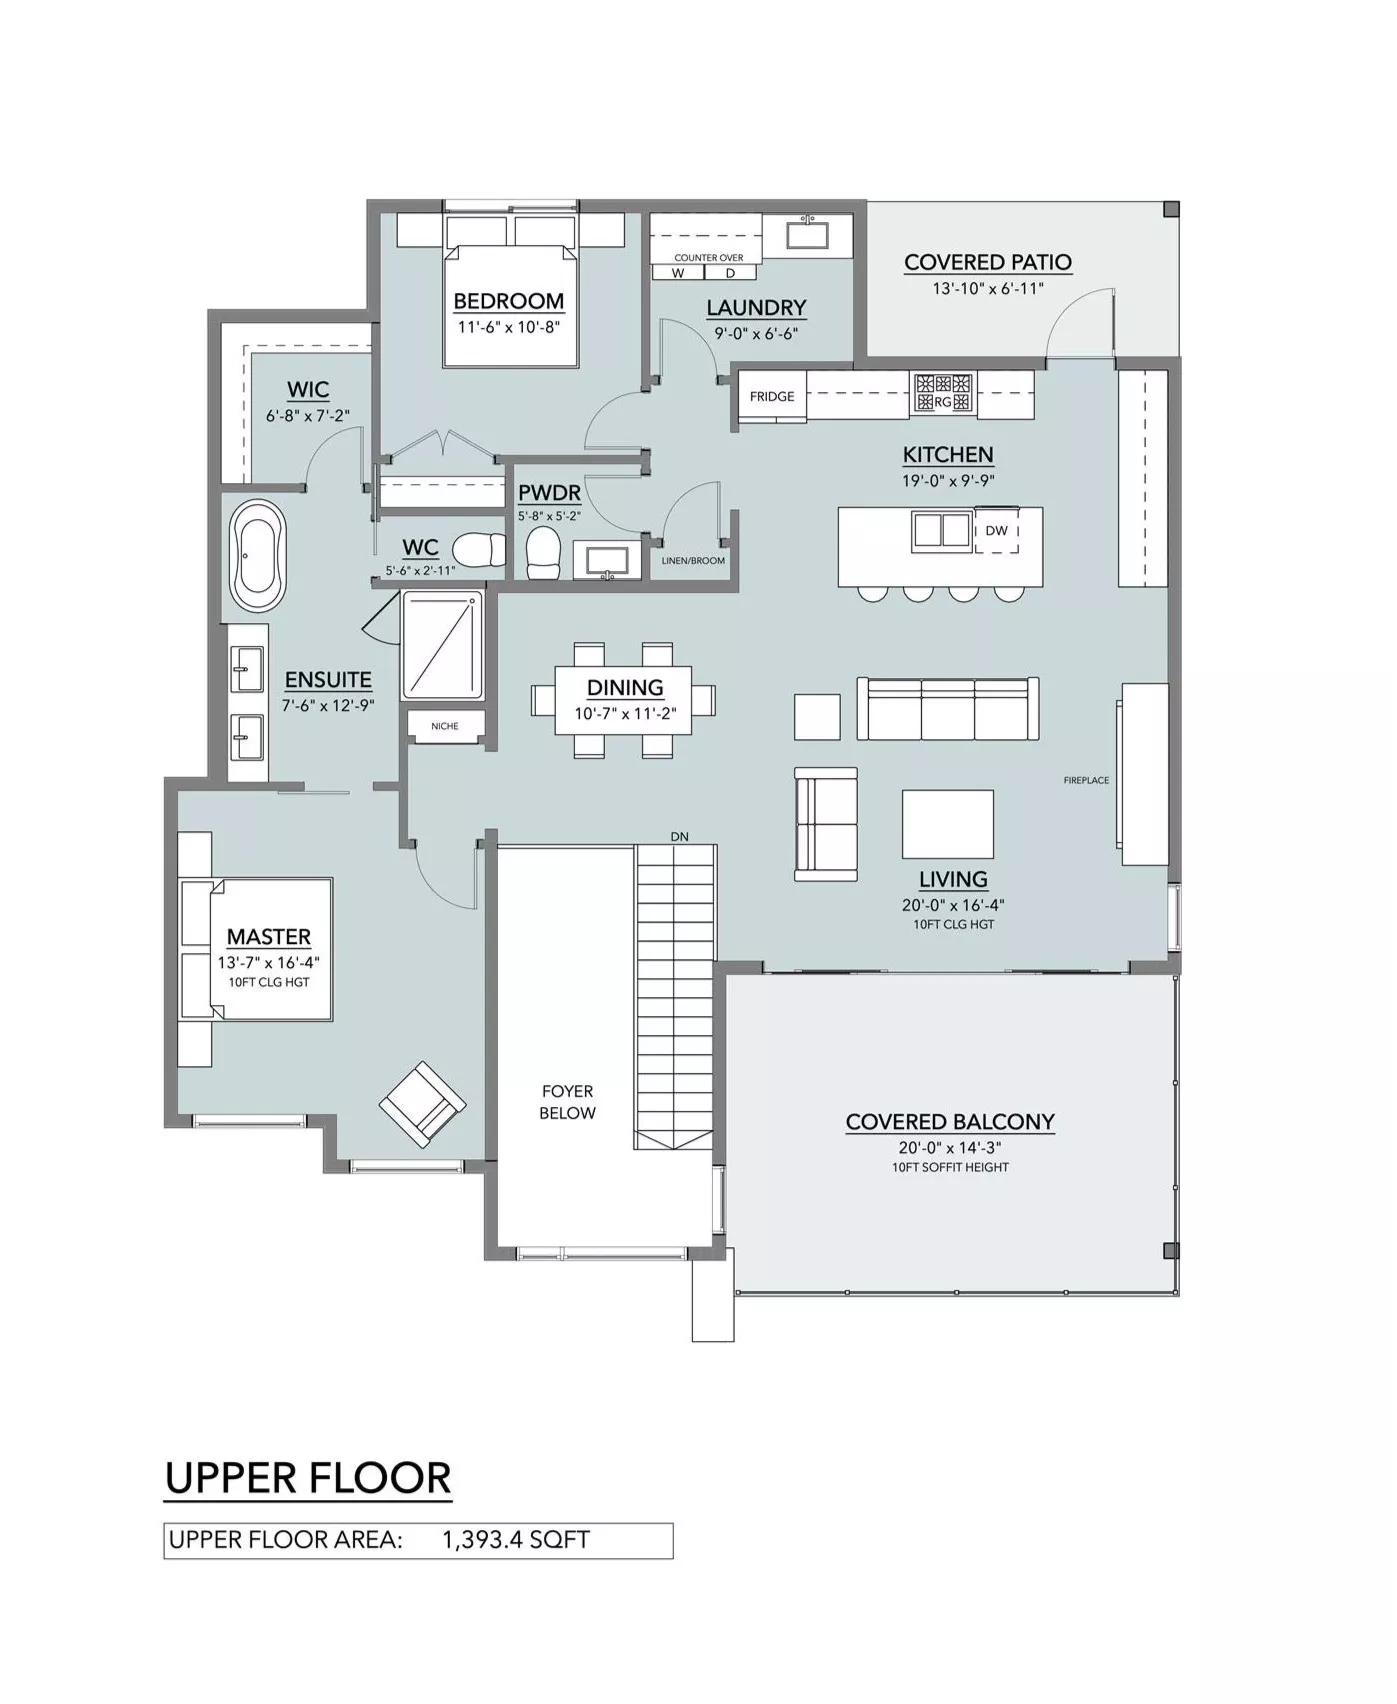room: (736, 364, 1175, 969), (166, 839, 488, 1166), (376, 208, 644, 457), (215, 488, 403, 785), (647, 208, 856, 365), (217, 318, 375, 487), (510, 459, 647, 583), (378, 459, 508, 583)
